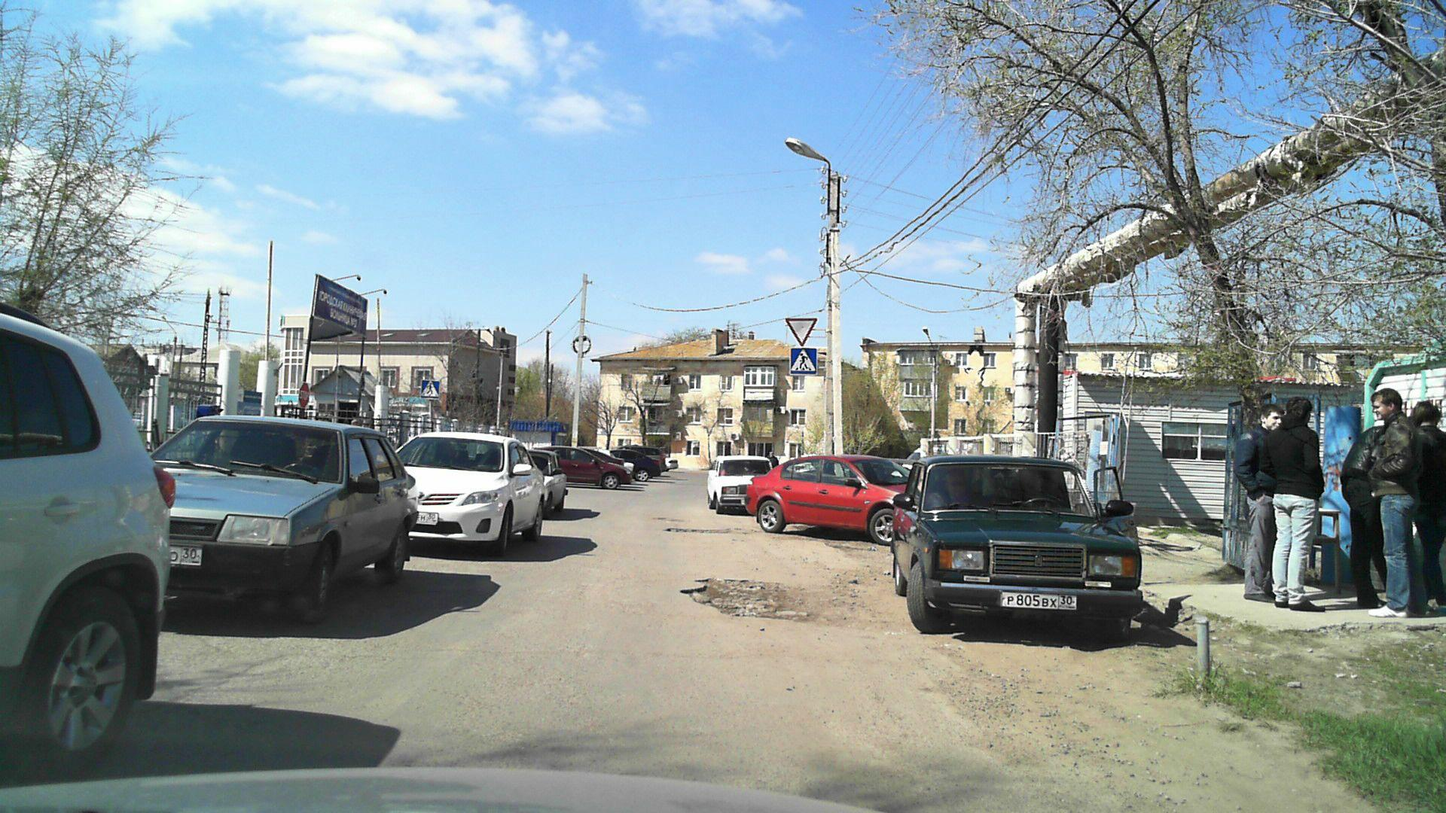road_sign: (785, 316, 820, 348), (791, 349, 818, 373), (420, 378, 442, 400), (298, 384, 310, 408)
